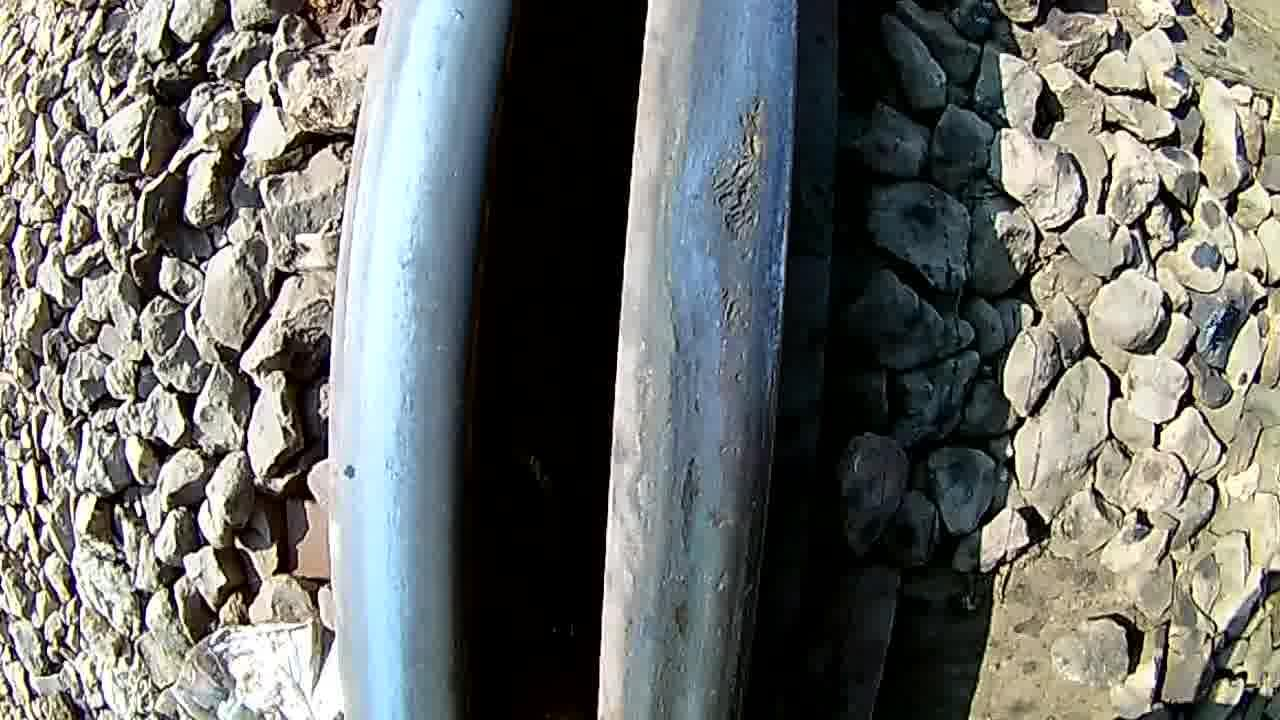crack: (624, 6, 801, 720)
